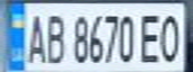0: (118, 10, 139, 64)
6: (87, 10, 106, 64)
7: (103, 10, 121, 64)
8: (69, 9, 90, 64)
A: (21, 8, 48, 65)
B: (42, 9, 69, 64)
E: (136, 9, 163, 64)
O: (157, 10, 184, 64)
